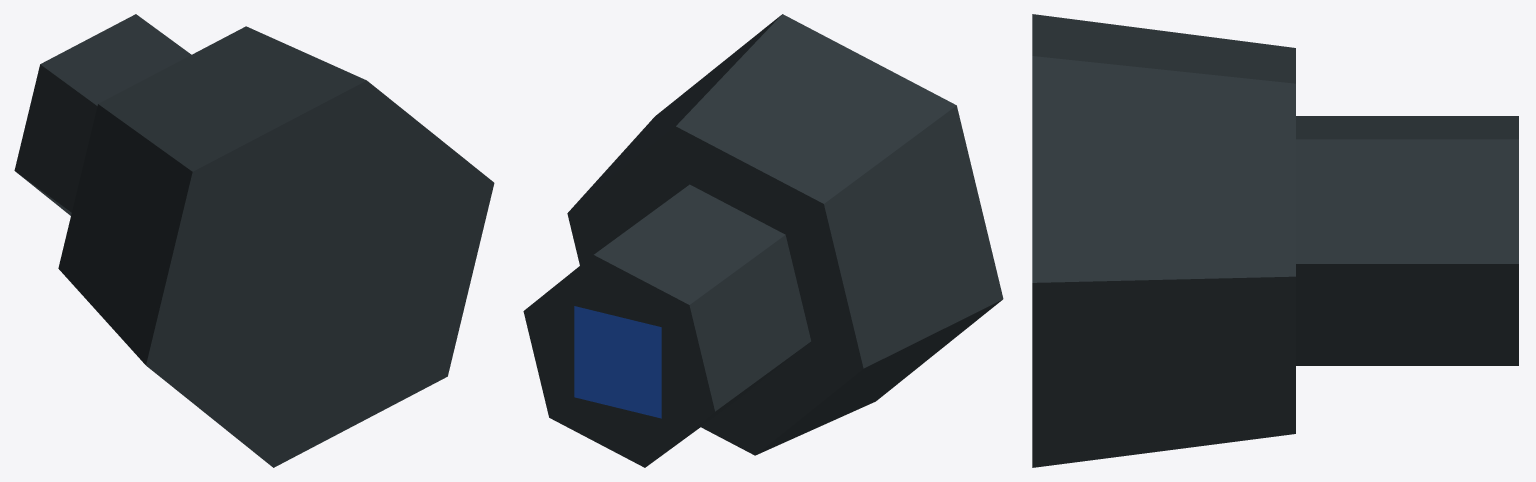
3 renders of one model, left to right at view 1: azimuth 30°, elevation 25°; view 2: azimuth 150°, elevation 25°; view 3: azimuth 270°, elevation 25°, orthographic. The views are drawn at different scales.
Visible parts, largest first — view 1: mount; view 2: mount; view 3: mount.
Part boxes in pixels (bbox=[...]): mount: bbox=[14, 14, 494, 467]; mount: bbox=[523, 14, 1003, 467]; mount: bbox=[1032, 14, 1518, 467].
Size of the model in its own units: 5.02 by 5.02 by 5.27.
